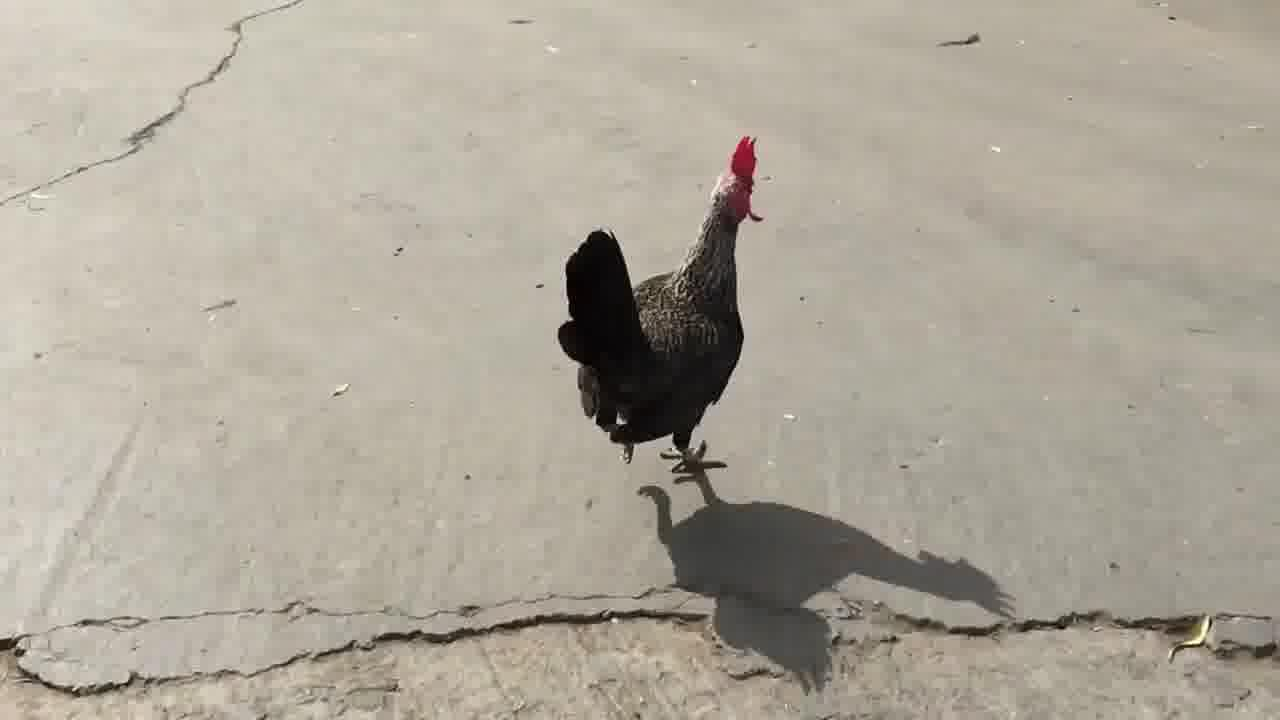Normal: (556, 132, 792, 474)
